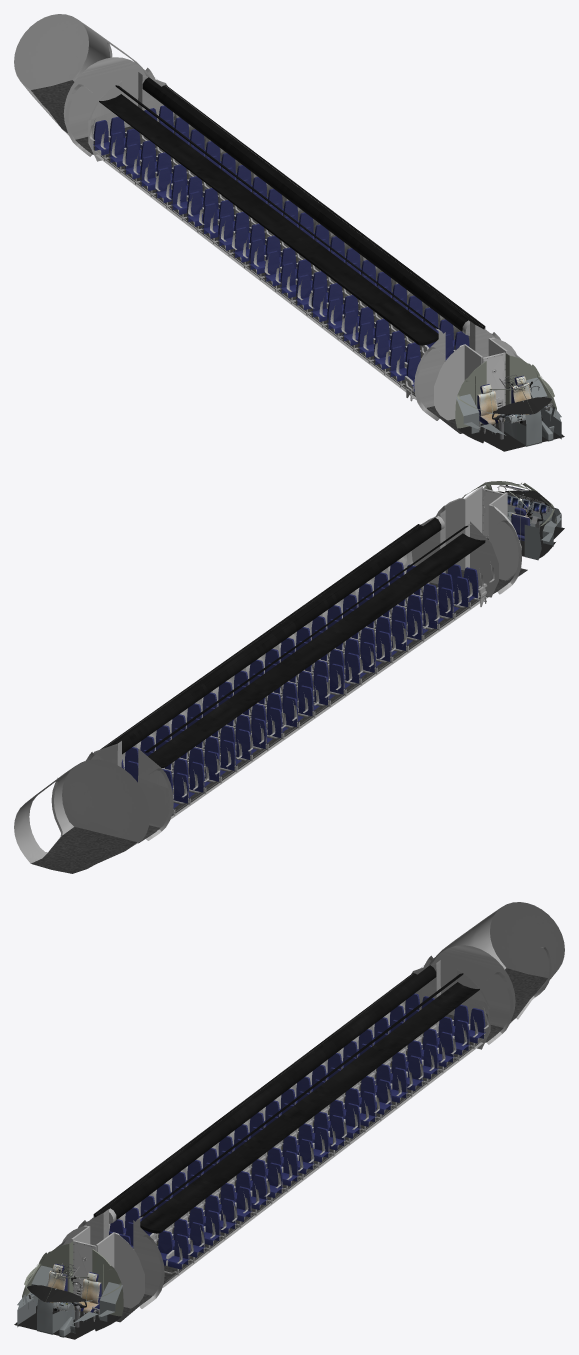
Rendered from interior.gltf.
3 views of the same model, one above another, from view 1: azimuth 30°, elevation 25°; view 2: azimuth 150°, elevation 25°; view 3: azimuth 330°, elevation 25° (orthographic).
Visible parts, largest first — view 1: Interior; view 2: Interior; view 3: Interior.
Boxes of the visible parts, x1,y1,x2,y2 form: Interior: (14,14,564,451); Interior: (14,481,564,873); Interior: (14,902,564,1339).
Bounding box in the file's own units: 2.62 × 2.46 × 23.35.
Materials: 48 (43 with a texture image).
